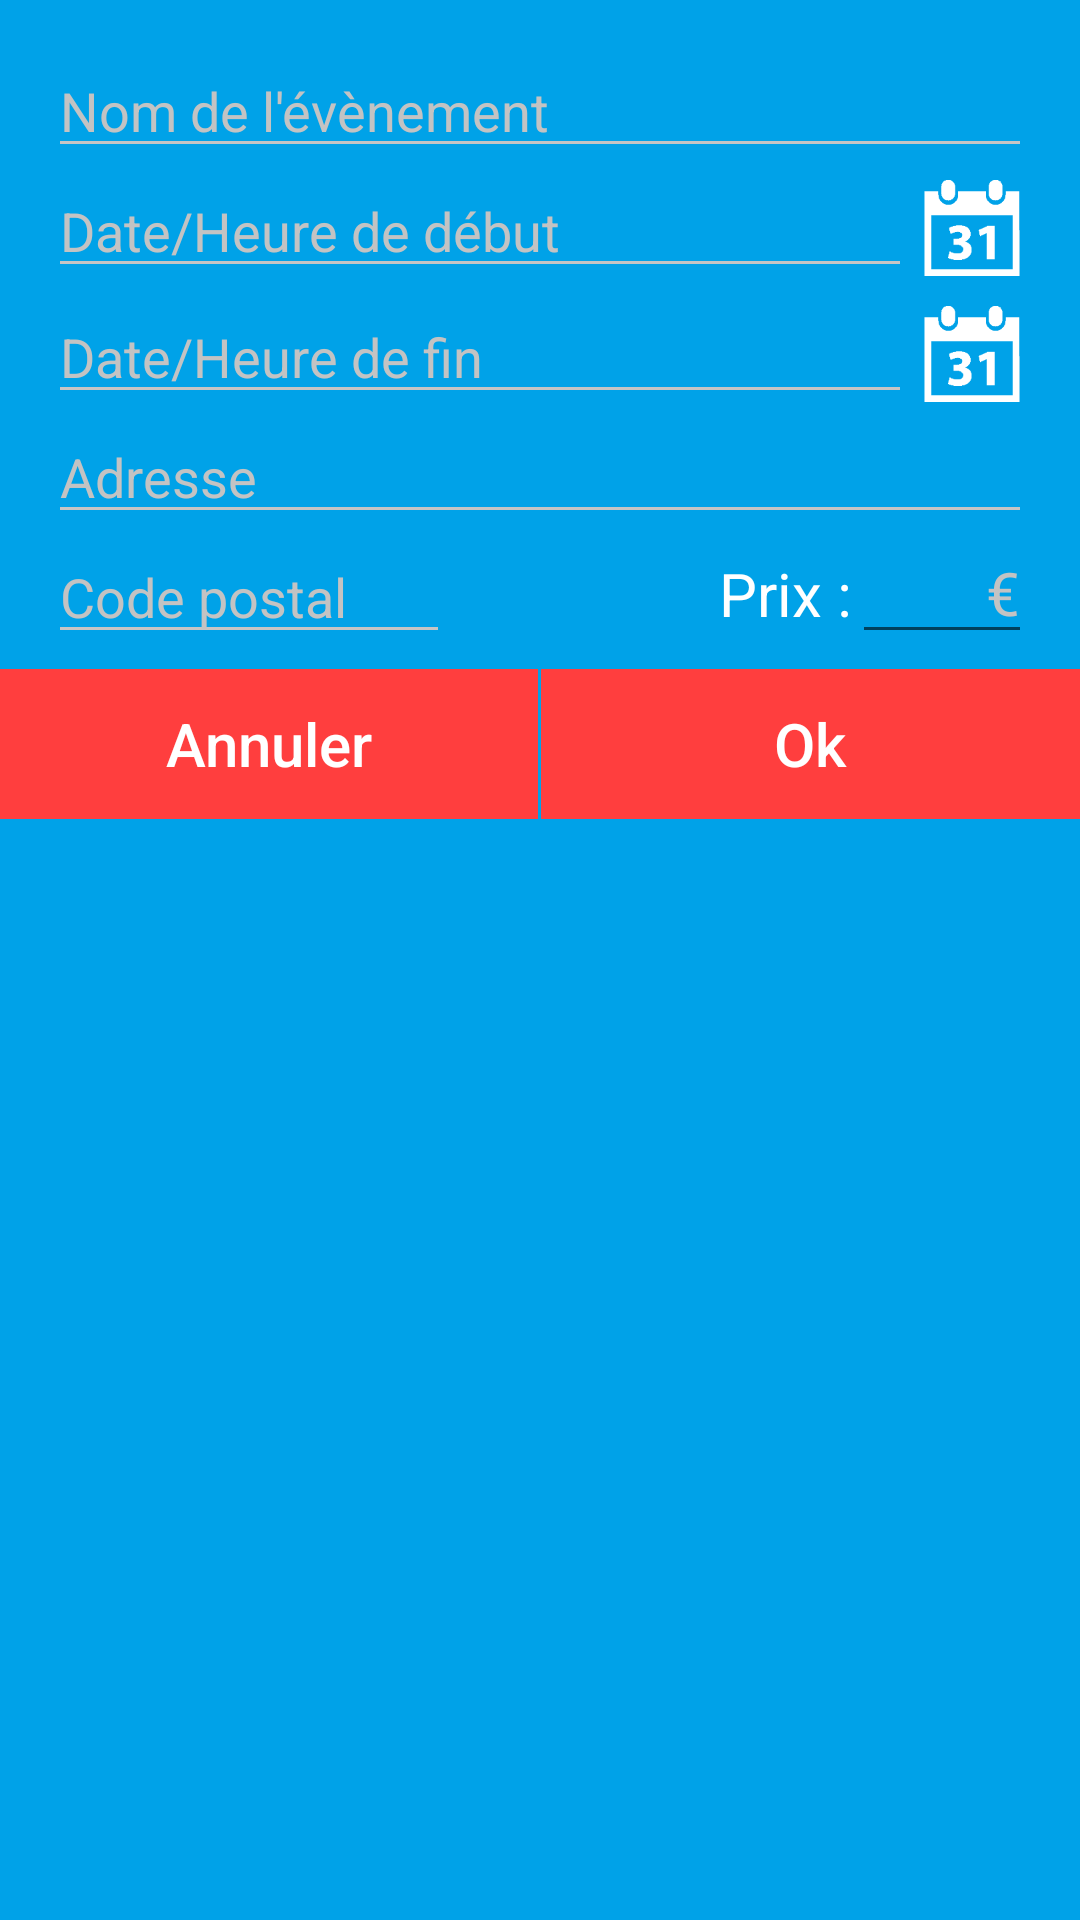

Icons on this 1080px x 1920px Android screen, each with the point to tap as (x=x, y=y):
calendar: (x=972, y=228), (x=972, y=354)
